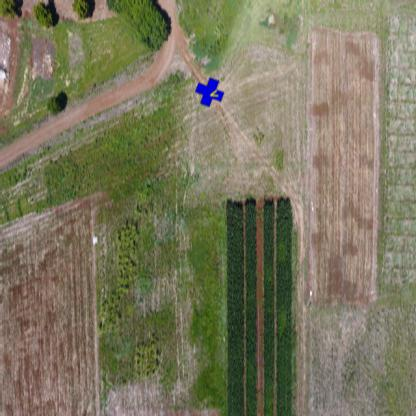V: (210, 89, 219, 100)
plus: (195, 76, 225, 109)
